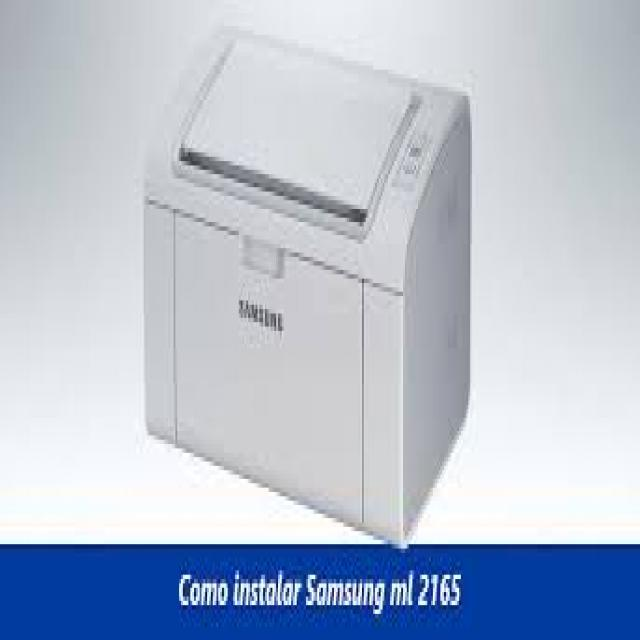printer: (134, 11, 479, 538)
